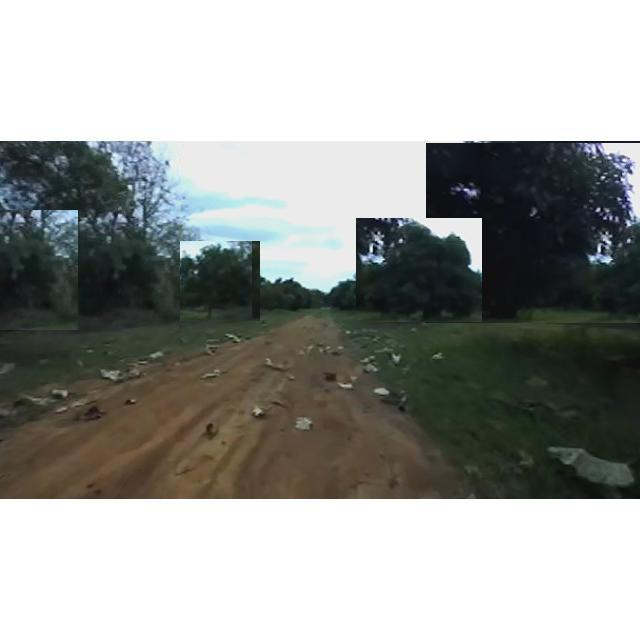direk: (426, 143, 640, 323), (0, 142, 180, 336), (356, 218, 482, 322), (0, 210, 78, 330), (172, 241, 260, 321)
